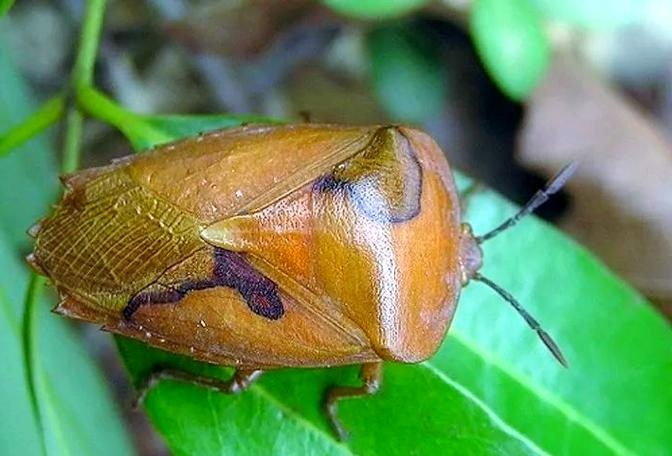Stink_Bug: (38, 134, 508, 344)
